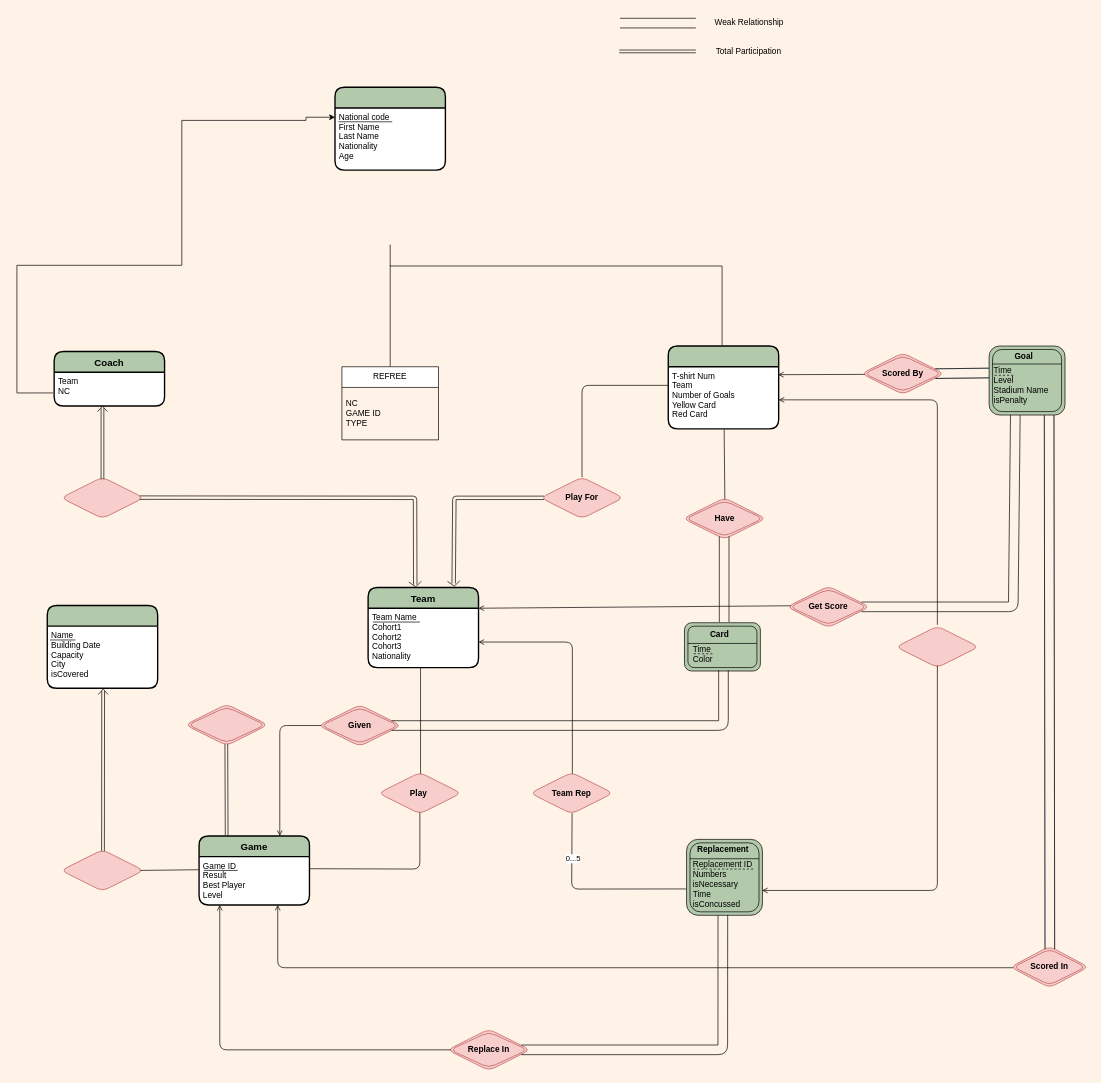
Some shapes in this 1101 by 1083 pixel diagram are drawn without their labels. The shapes that lost their labels are listed below. From the top down, each one's box as (x1, y1, x2, y2) in pixels, then its label:
(334, 86, 446, 170): Person
(667, 345, 779, 429): Player
(60, 476, 144, 519): Leads
(46, 604, 158, 689): Stadium
(895, 625, 979, 668): Player Rep
(185, 703, 268, 746): Judge
(60, 849, 144, 891): Play In
